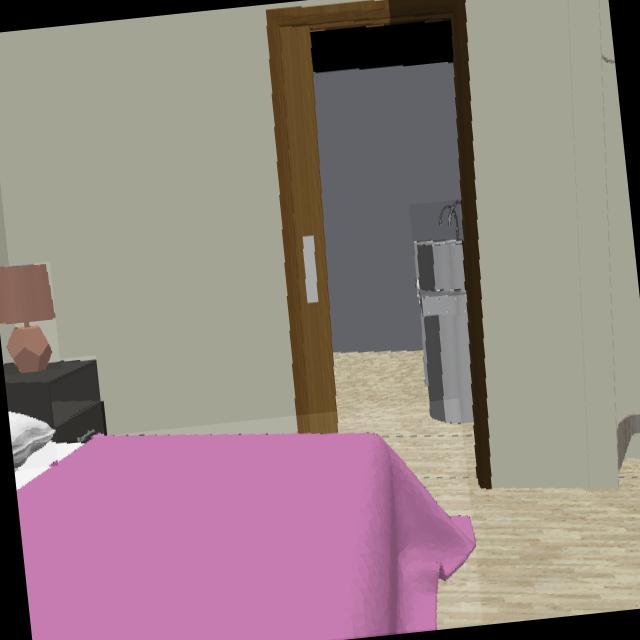bed: (14, 435, 474, 640)
lamp: (0, 266, 55, 373)
nighttable: (3, 363, 104, 440)
pillow: (9, 413, 54, 469)
washbasin: (415, 200, 465, 290)
